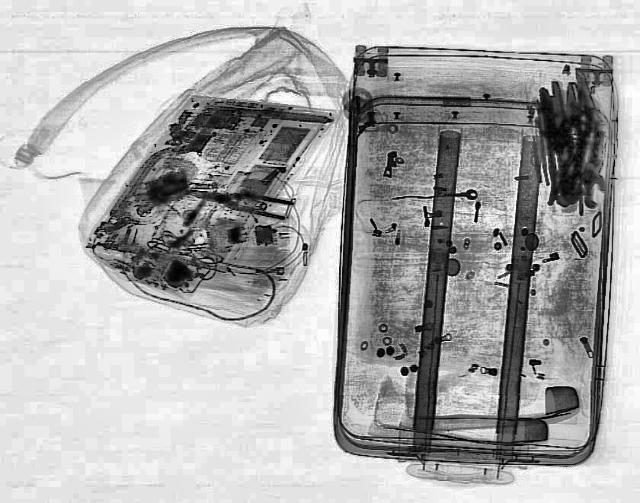Pliers: (181, 178, 293, 220)
